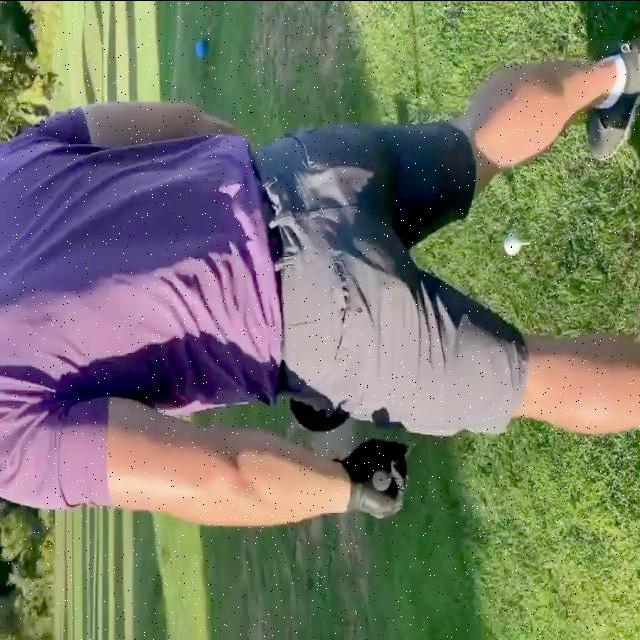ClubHandle: (371, 466, 391, 492)
GolfBall: (501, 232, 520, 256)
